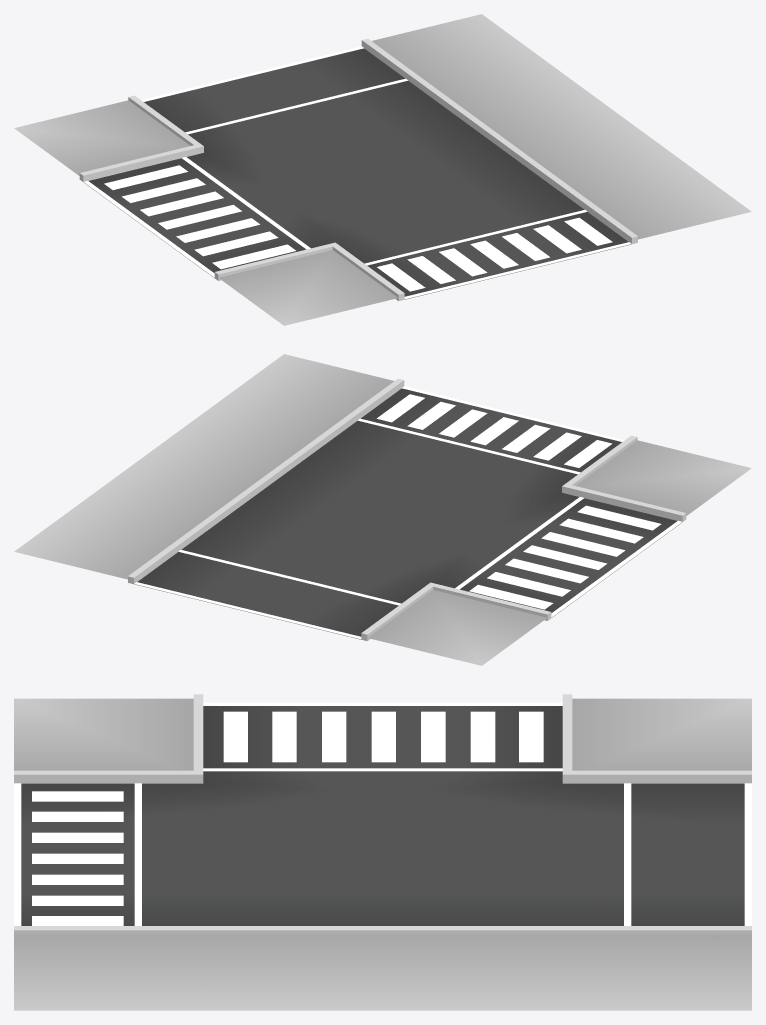
Rendered from road_027.glb.
3 renders of one model, top to bottom at view 1: azimuth 30°, elevation 25°; view 2: azimuth 150°, elevation 25°; view 3: azimuth 270°, elevation 25°, orthographic. The views are drawn at different scales.
Visible parts, largest first — view 1: road_027; view 2: road_027; view 3: road_027.
Boxes of the visible parts, x1,y1,x2,y2 form: road_027: [14, 14, 751, 325]; road_027: [14, 354, 751, 665]; road_027: [14, 694, 751, 1010].
Bounding box in the file's own units: 15 × 0.2 × 15.
1 material, 1 textured.
